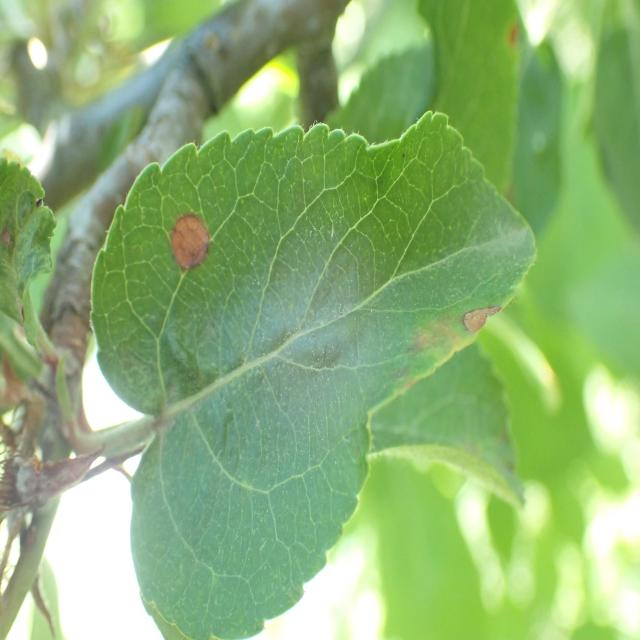Black Rot: (159, 204, 221, 288), (456, 290, 511, 363)
